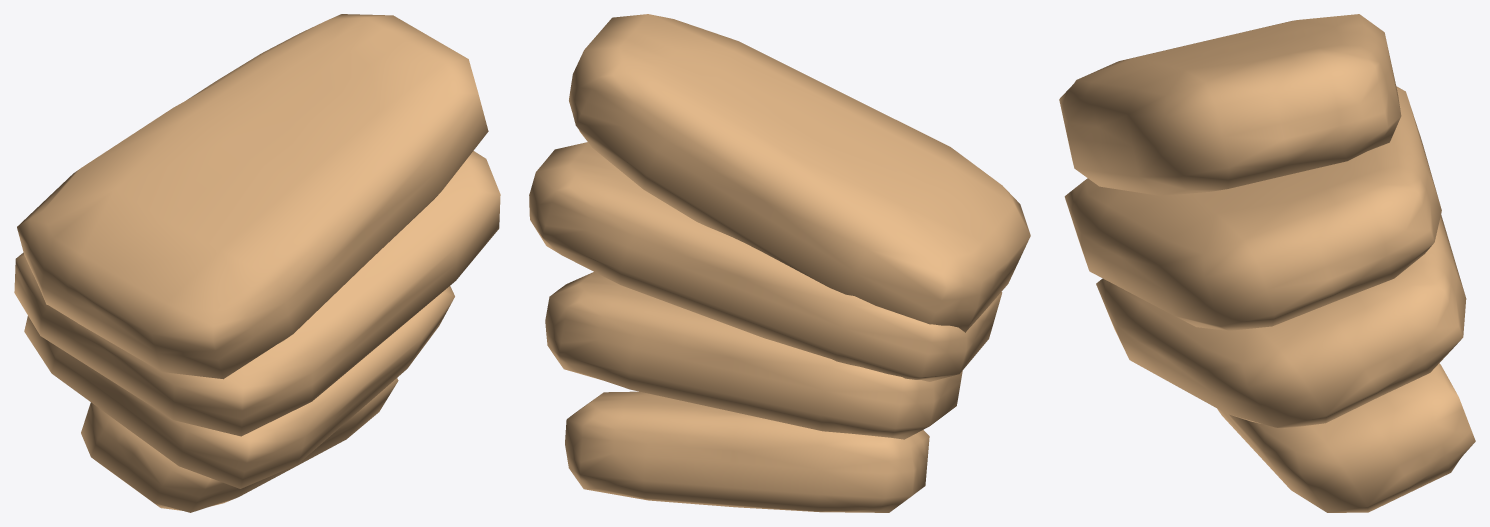
Rendered from palm_l.dae.
The picture shows the model from 3 angles, left to right: view 1: azimuth 30°, elevation 25°; view 2: azimuth 150°, elevation 25°; view 3: azimuth 270°, elevation 25°; orthographic projection. The views are drawn at different scales.
Parts seen in each view (by area): view 1: skin_geo_ring_metacarpal_r; view 2: skin_geo_ring_metacarpal_r; view 3: skin_geo_ring_metacarpal_r.
Part boxes in pixels (x1,y1,x2,y2): skin_geo_ring_metacarpal_r: (14, 14, 500, 512); skin_geo_ring_metacarpal_r: (529, 14, 1030, 512); skin_geo_ring_metacarpal_r: (1059, 14, 1475, 512).
Bounding box in the file's own units: 0.0939 × 0.0692 × 0.086.
